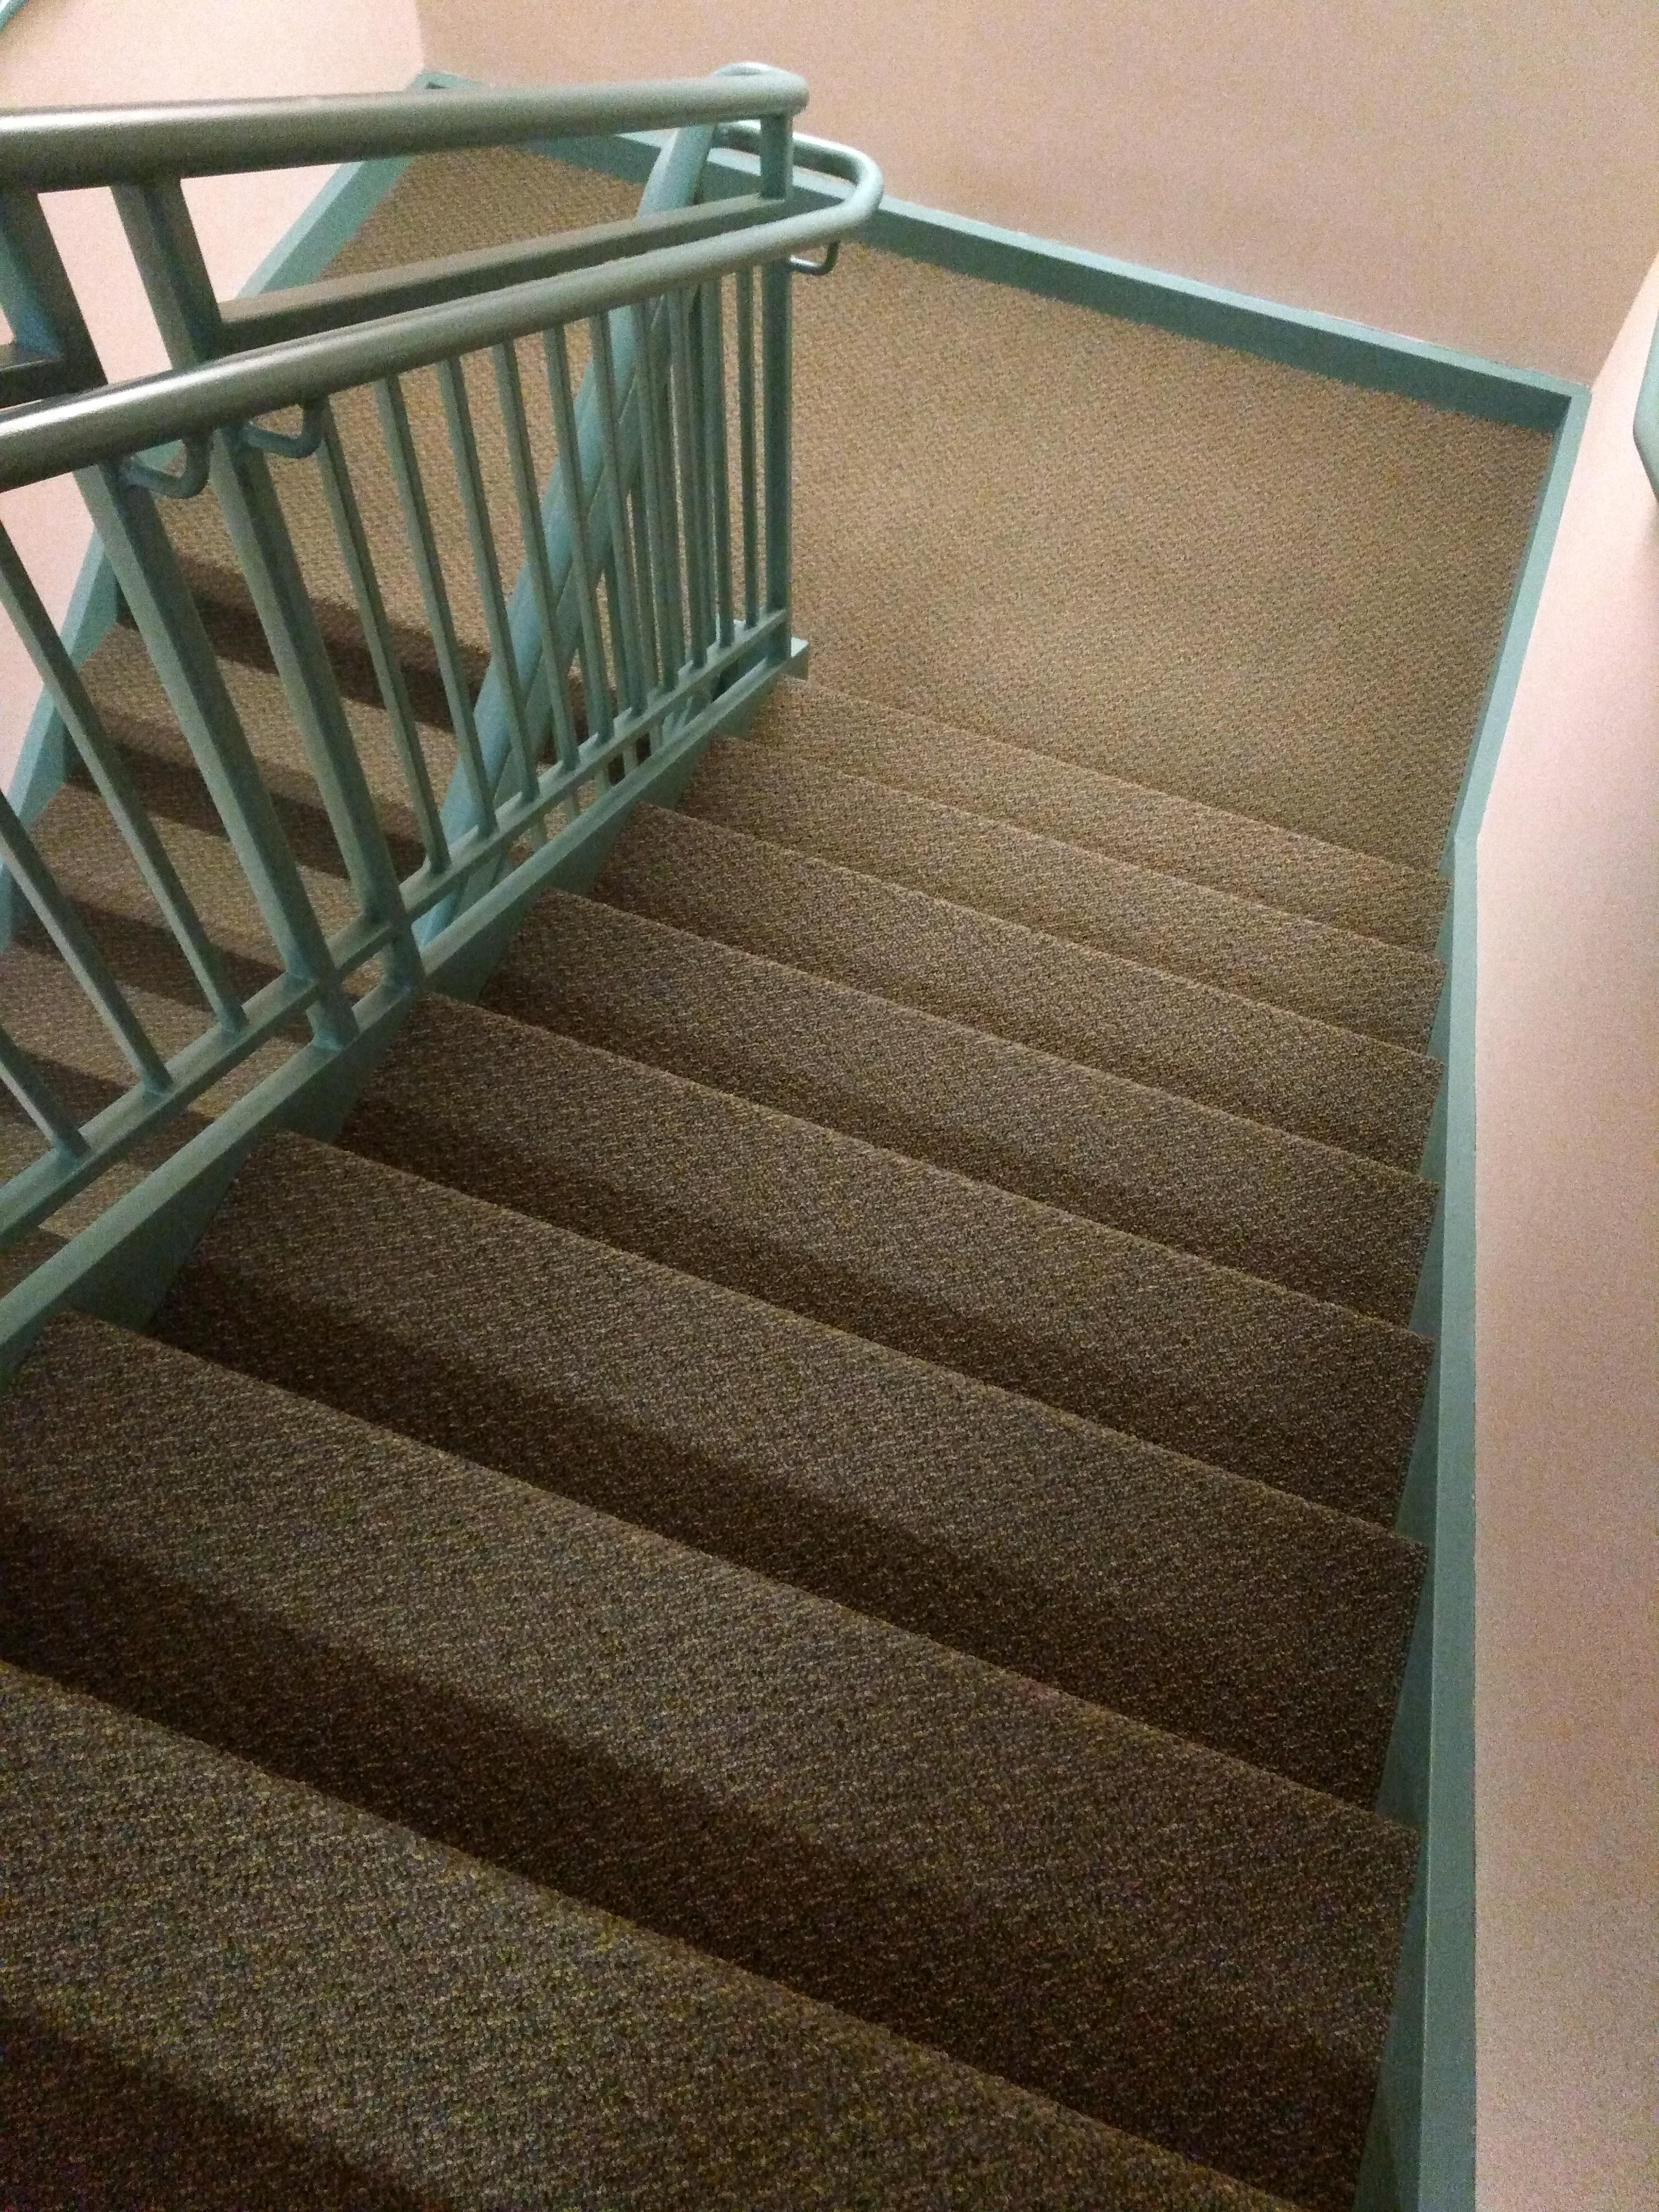stairs_down: (37, 650, 1490, 2125)
